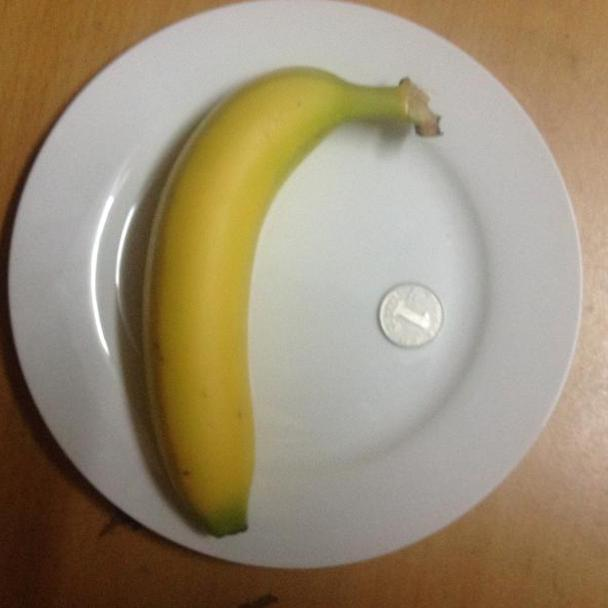banana: (140, 63, 416, 537)
